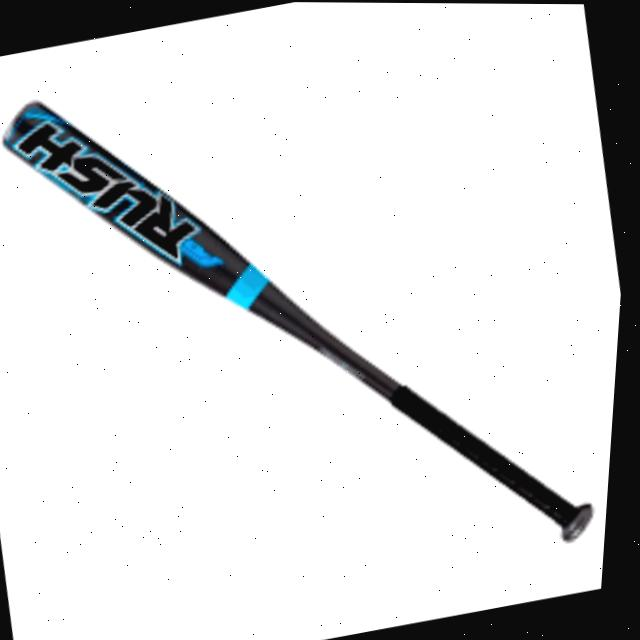baseball bat: (1, 104, 597, 535)
